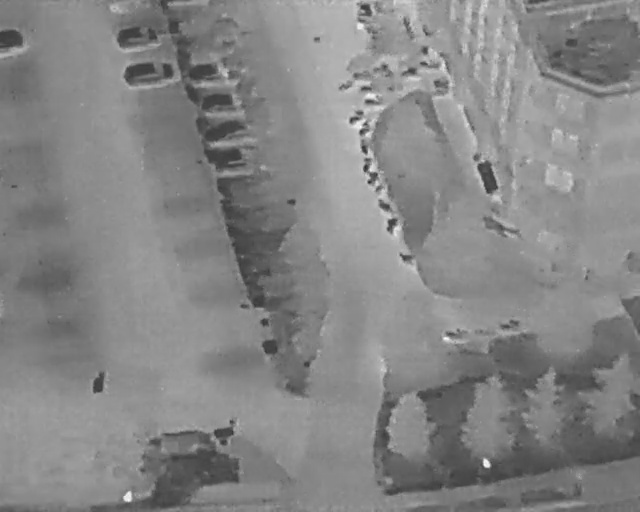Car: (139, 428, 224, 473), (121, 57, 175, 89), (212, 143, 268, 173), (204, 114, 254, 146), (114, 22, 162, 50), (202, 91, 245, 114), (188, 61, 234, 82), (0, 28, 25, 53)
